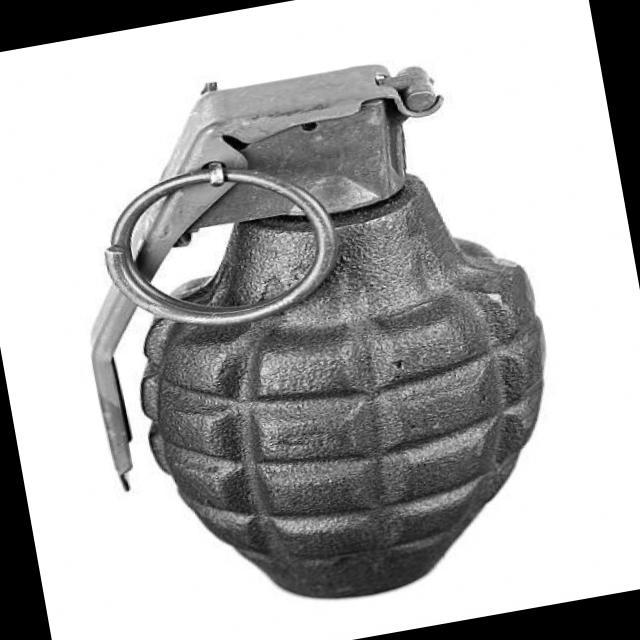grenade: (30, 24, 595, 640)
